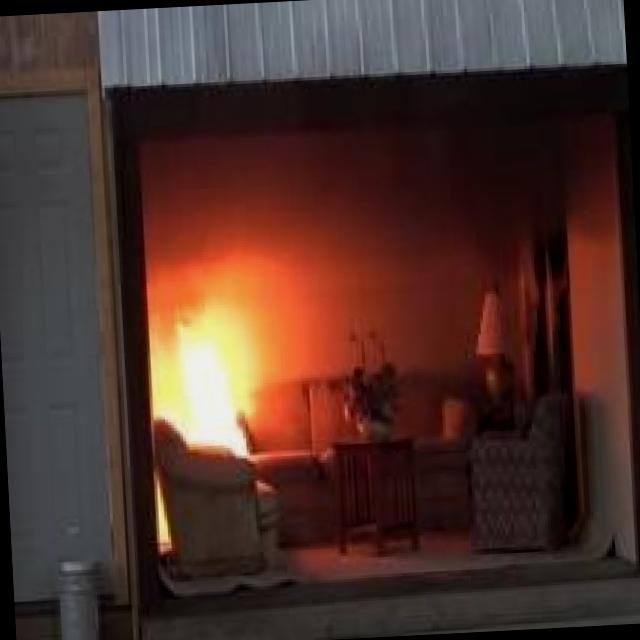fire: (140, 266, 283, 445)
